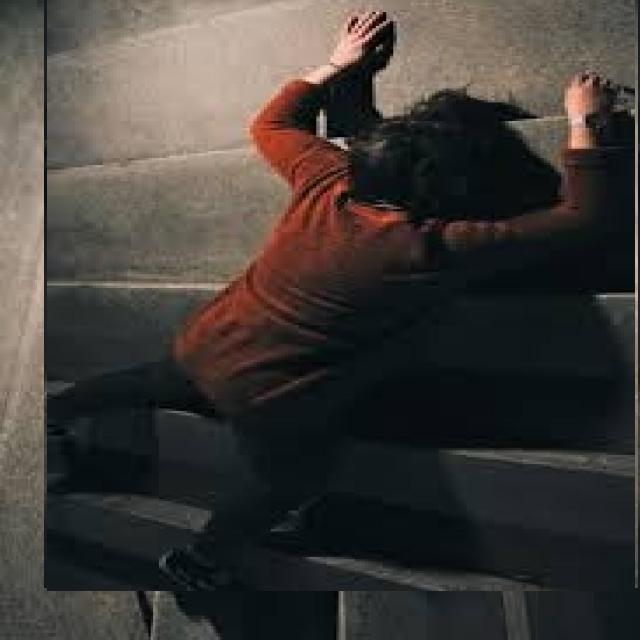Fall: (122, 18, 640, 556)
